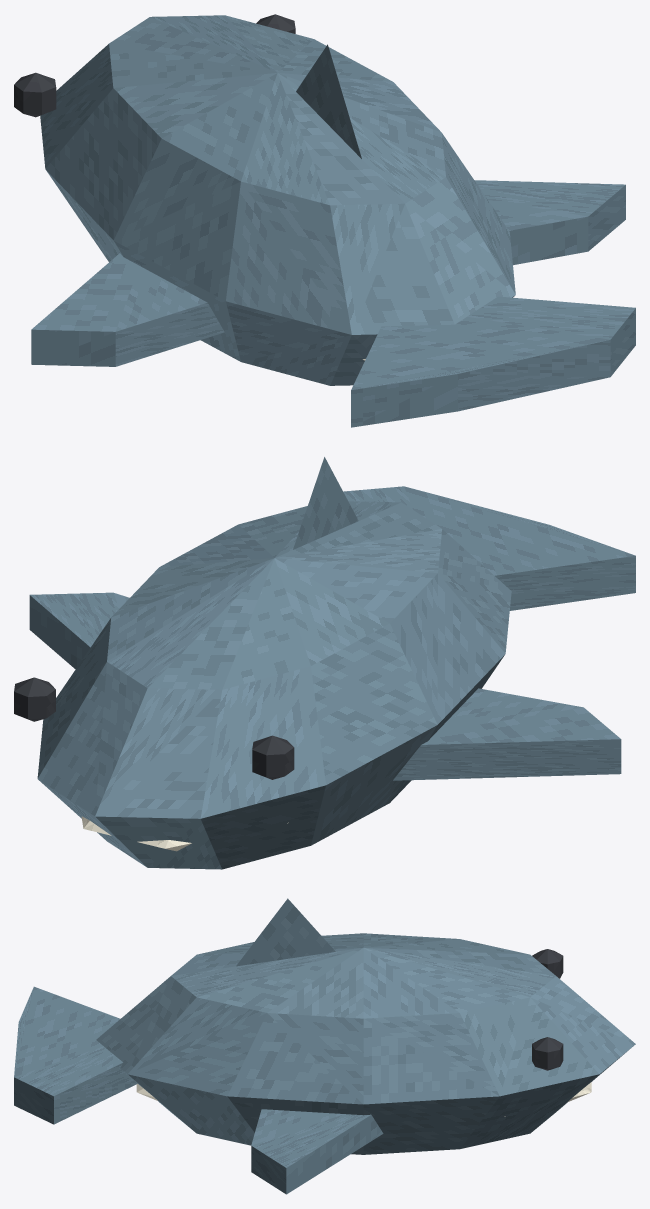
File: shark_plushie.glb
3 views of the same model, one above another, from view 1: azimuth 30°, elevation 25°; view 2: azimuth 150°, elevation 25°; view 3: azimuth 270°, elevation 25° (orthographic). The views are drawn at different scales.
Parts seen in each view (by area): view 1: block_plush shark body, block_forked fabric tail, block_side fin (×2), block_dorsal fin reverse, block_button eye; view 2: block_plush shark body, block_side fin (×2), block_forked fabric tail, block_button eye (×2), block_dorsal fin reverse, block_white belly; view 3: block_plush shark body, block_forked fabric tail, block_side fin, block_dorsal fin, block_button eye (×2).
Boxes of the visible parts, bbox=[...] form: block_plush shark body: bbox=[40, 15, 515, 385]; block_forked fabric tail: bbox=[351, 296, 635, 427]; block_side fin (×2): bbox=[31, 180, 625, 366]; block_dorsal fin reverse: bbox=[296, 44, 361, 158]; block_button eye: bbox=[14, 72, 56, 117]; block_plush shark body: bbox=[37, 501, 511, 869]; block_side fin (×2): bbox=[29, 592, 621, 780]; block_forked fabric tail: bbox=[343, 486, 635, 610]; block_button eye (×2): bbox=[14, 677, 294, 779]; block_dorsal fin reverse: bbox=[293, 457, 358, 549]; block_white belly: bbox=[81, 816, 288, 851]; block_plush shark body: bbox=[96, 933, 635, 1154]; block_forked fabric tail: bbox=[14, 986, 137, 1124]; block_side fin: bbox=[251, 1109, 383, 1194]; block_dorsal fin: bbox=[236, 898, 335, 966]; block_button eye (×2): bbox=[532, 949, 563, 1070].
Bounding box in the file's own units: 0.8583 × 0.4424 × 1.03.
Materials: 1 (1 with a texture image).
